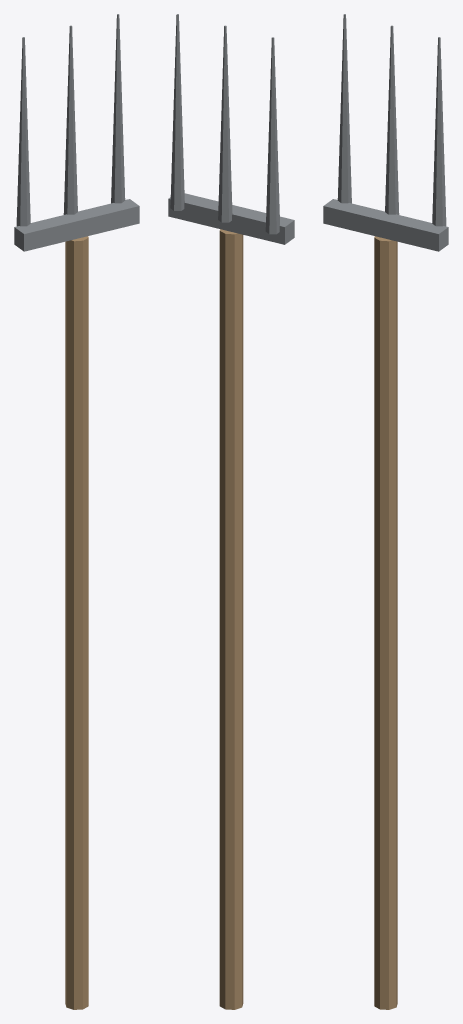
File: pitchfork.glb
3 views of the same model, side by side, from view 1: azimuth 30°, elevation 25°; view 2: azimuth 150°, elevation 25°; view 3: azimuth 330°, elevation 25° (orthographic).
Parts seen in each view (by area): view 1: Pitchfork; view 2: Pitchfork; view 3: Pitchfork.
Part boxes in pixels (x1,y1,x2,y2): Pitchfork: (14,14,139,1009); Pitchfork: (168,14,294,1009); Pitchfork: (323,14,448,1009).
Size of the model in its own units: 0.22 by 1.78 by 0.052.
